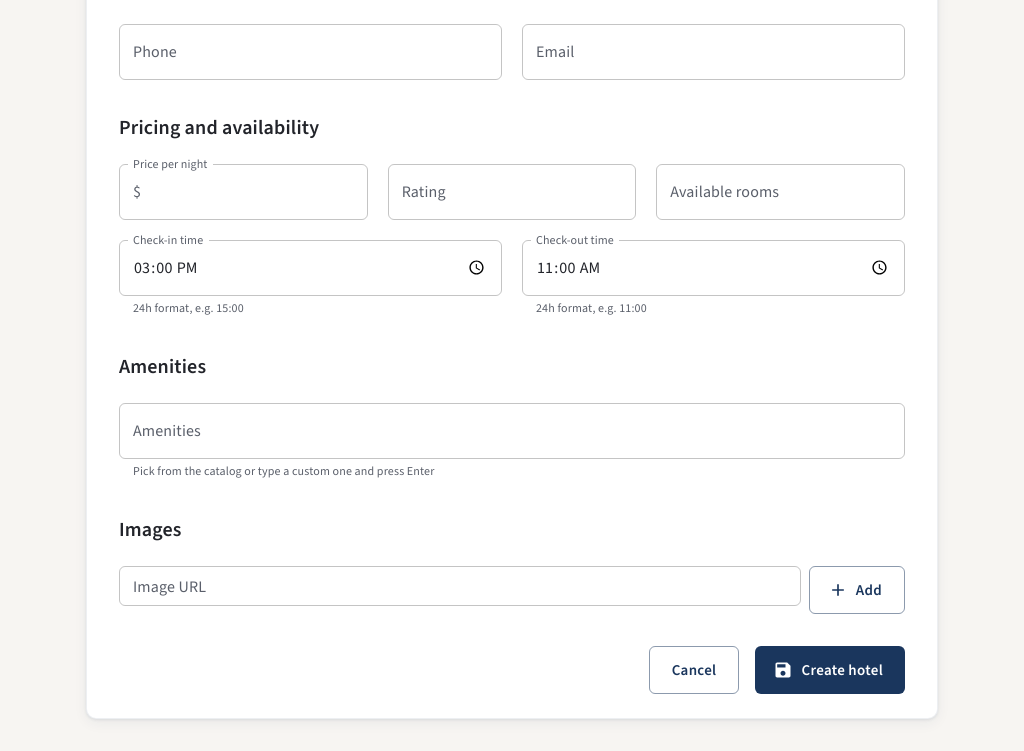
Test case: HotelForm › rechaza URLs de imagen que no sean http(s)
(page scrolled)
Step 1. Type "javascript:alert(1)" into the field labelled "Image URL" → [460, 586], box [119, 566, 801, 606]
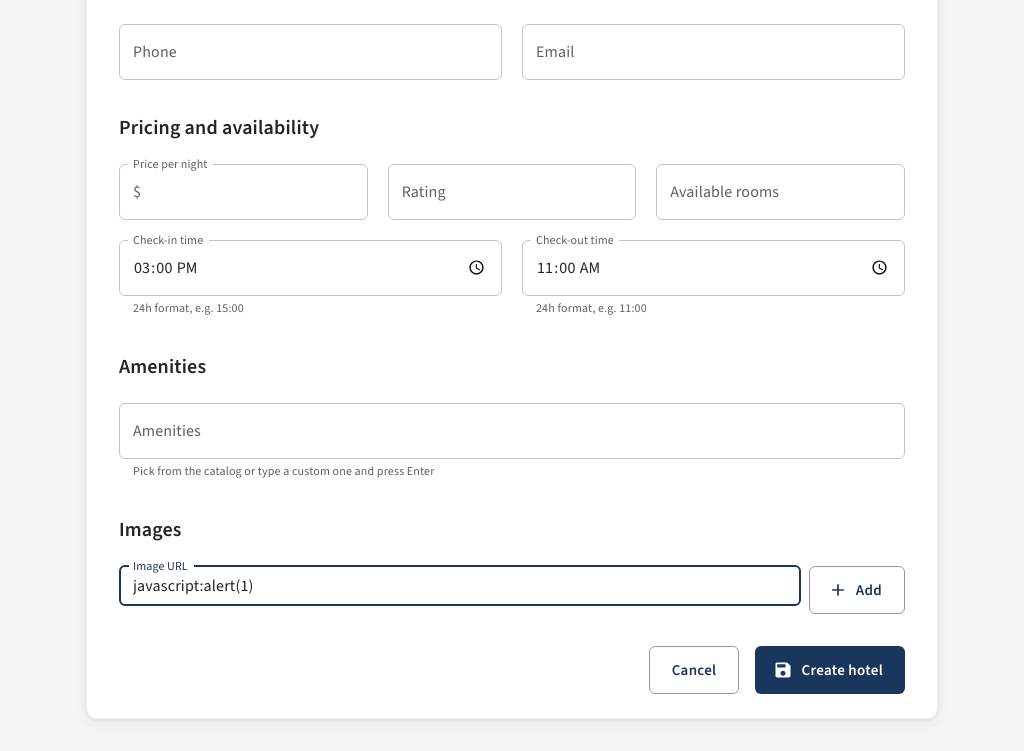
Step 2. Click the button "Add" → [857, 590], box [809, 566, 905, 614]
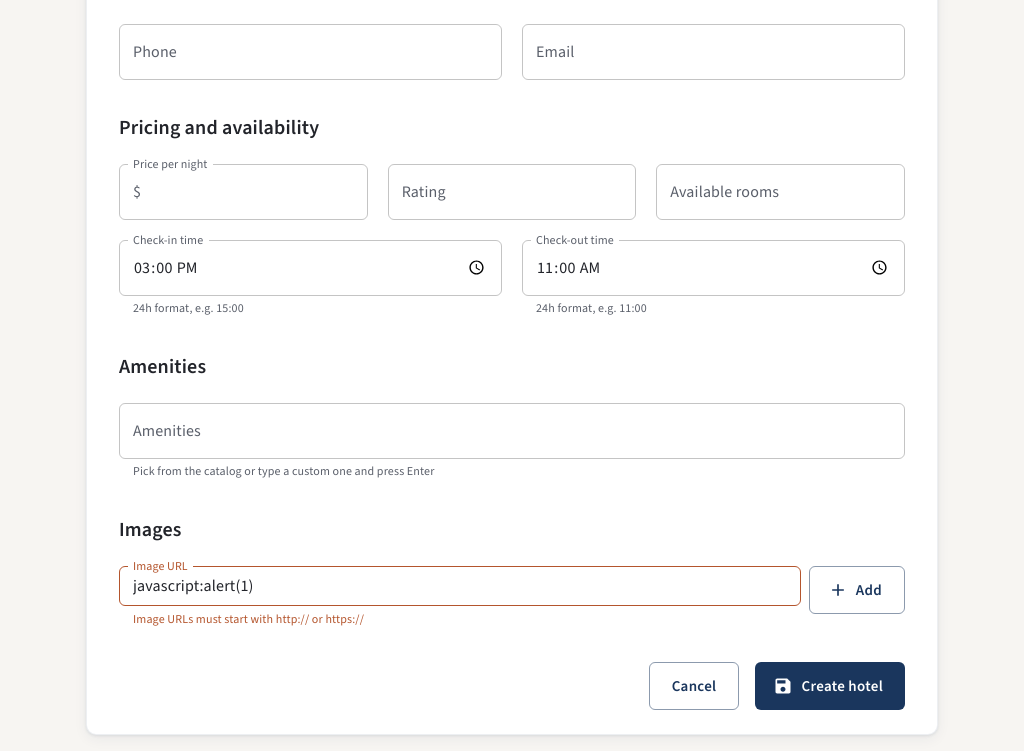
Check: the text "Image URLs must start with http:// or https://" is shown, box [133, 611, 364, 627]
